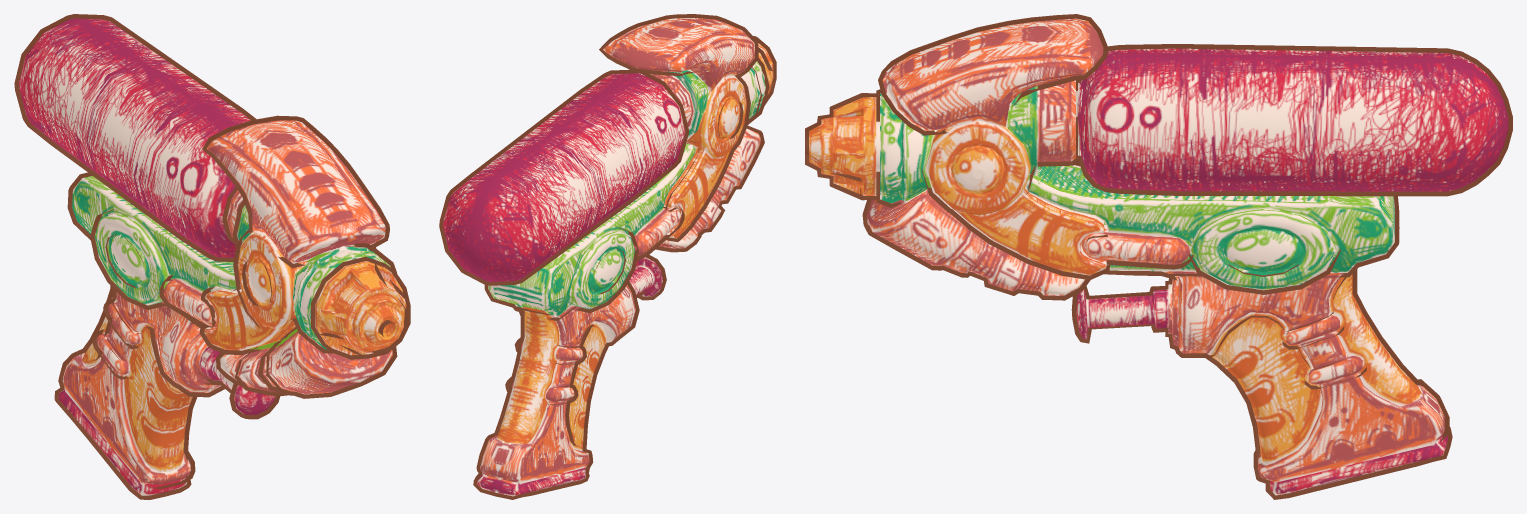
The picture shows the model from 3 angles, left to right: view 1: azimuth 30°, elevation 25°; view 2: azimuth 150°, elevation 25°; view 3: azimuth 270°, elevation 25°; orthographic projection. The views are drawn at different scales.
Visible parts, largest first — view 1: thirtyPart_low:008, thirtyPart_low:008.001; view 2: thirtyPart_low:008, thirtyPart_low:008.001; view 3: thirtyPart_low:008, thirtyPart_low:008.001.
Part boxes in pixels (x1,y1,x2,y2): thirtyPart_low:008: [19, 18, 406, 495]; thirtyPart_low:008.001: [14, 14, 410, 499]; thirtyPart_low:008: [443, 17, 773, 496]; thirtyPart_low:008.001: [439, 14, 776, 499]; thirtyPart_low:008: [809, 18, 1508, 495]; thirtyPart_low:008.001: [805, 14, 1512, 499].
Size of the model in its own units: 2.27 by 7.58 by 10.53.
2 materials, 1 textured.
